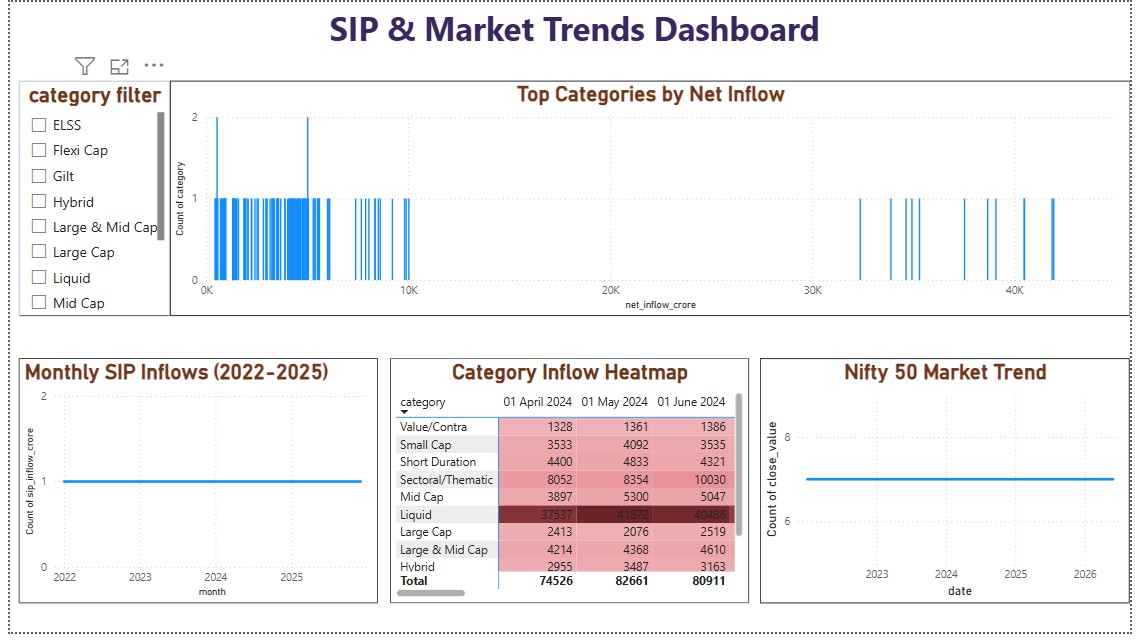

This screenshot's page, from the dashboard's own definition file:
{"tool":"powerbi","page":{"name":"SIP &Market trends","canvas":[1280,720],"ordinal":3},"visuals":[{"type":"textbox","box":[9.6,0,1270.7,63.1],"z":0},{"type":"lineChart","title":"Monthly SIP Inflows (2022-2025)","fields":{"Category":["04_monthly_sip_inflows.month"],"Y":["CountNonNull(04_monthly_sip_inflows.sip_inflow_crore)"]},"box":[9.6,407.5,410.3,279.9],"z":1000},{"type":"lineChart","title":"Nifty 50 Market Trend","fields":{"Category":["10_benchmark_indices.date"],"Y":["CountNonNull(10_benchmark_indices.close_value)"]},"box":[857.6,407.5,422.6,279.9],"z":2000},{"type":"pivotTable","title":"Category Inflow Heatmap","fields":{"Rows":["05_category_inflows.category"],"Columns":["05_category_inflows.month"],"Values":["Sum(05_category_inflows.net_inflow_crore)"]},"box":[435,407.5,410.3,279.9],"z":3000},{"type":"slicer","title":"category filter","fields":{"Values":["05_category_inflows.category"]},"box":[9.6,90.6,172.9,269],"z":4000},{"type":"clusteredColumnChart","title":"Top Categories by Net Inflow","fields":{"Y":["CountNonNull(05_category_inflows.category)"],"Category":["05_category_inflows.net_inflow_crore"]},"box":[182.5,90.6,1097.8,269],"z":5000}]}

Visuals, with their boxes in screenshot pixels (x1, y1, x2, y2), scaled from the page's 1280x720 canvas onto the 1137x642 screenshot:
textbox: x1=9, y1=0, x2=1136, y2=56
"Monthly SIP Inflows (2022-2025)" lineChart: x1=9, y1=363, x2=373, y2=613
"Nifty 50 Market Trend" lineChart: x1=762, y1=363, x2=1136, y2=613
"Category Inflow Heatmap" pivotTable: x1=386, y1=363, x2=751, y2=613
"category filter" slicer: x1=9, y1=81, x2=162, y2=321
"Top Categories by Net Inflow" clusteredColumnChart: x1=162, y1=81, x2=1136, y2=321
